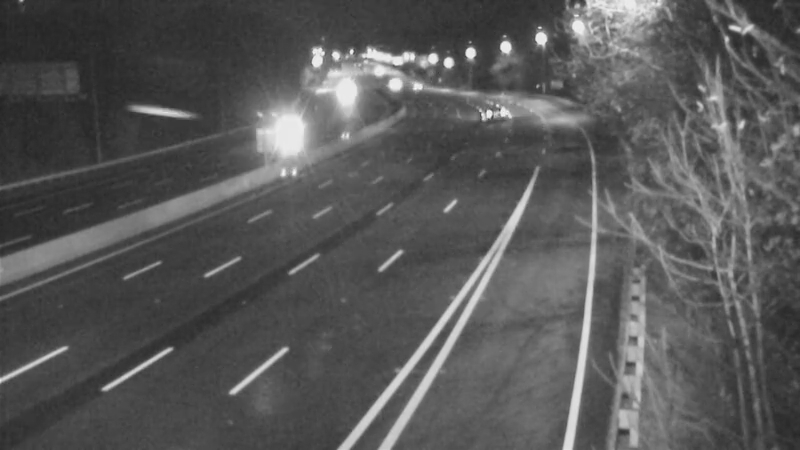vehicle: (386, 57, 436, 107), (366, 59, 416, 109), (469, 84, 519, 134), (266, 104, 316, 154), (318, 64, 368, 114)
